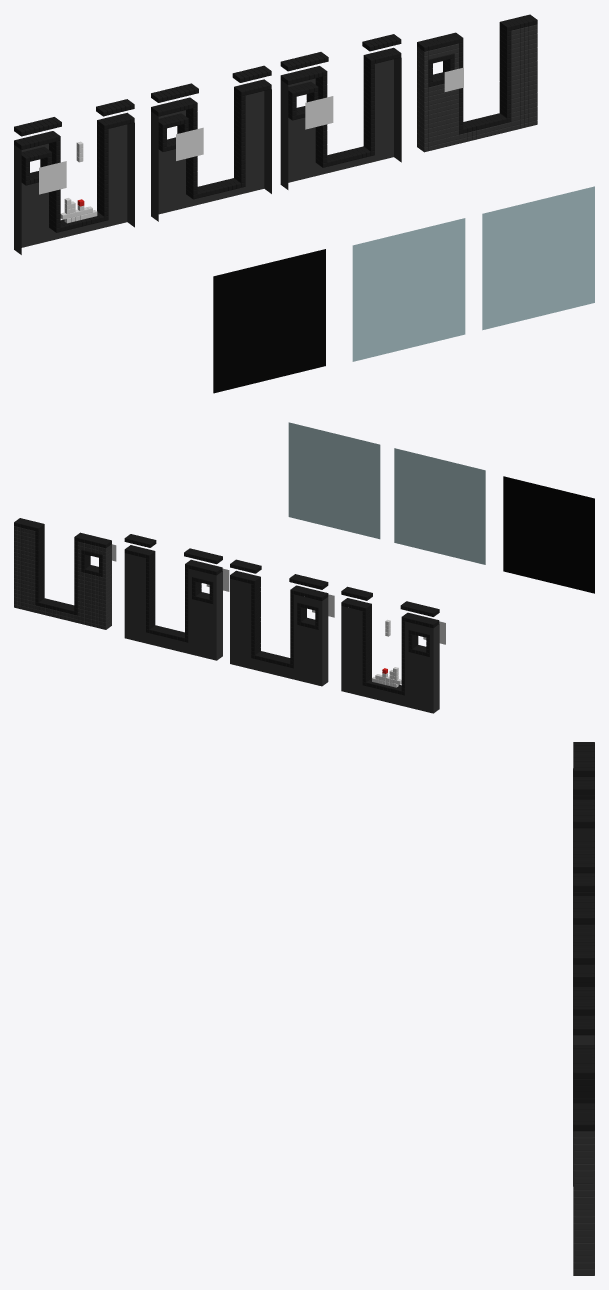
3 renders of one model, top to bottom at view 1: azimuth 30°, elevation 25°; view 2: azimuth 150°, elevation 25°; view 3: azimuth 270°, elevation 25°, orthographic. The views are drawn at different scales.
Visible parts, largest first — view 1: exemple_lvl_02, exemple_lvl_01, blue_light_backgoround, exemple_lvl_00, front_wall, border_walls, grey_light_background, border_timer, border_top_02; view 2: exemple_lvl_02, exemple_lvl_01, blue_light_backgoround, exemple_lvl_00, front_wall, border_walls, border_timer; view 3: exemple_lvl_00, exemple_lvl_01, exemple_lvl_02, border_top_02.
Boxes of the visible parts, <box> form: exemple_lvl_02: <box>14,99,325,393</box>; exemple_lvl_01: <box>280,34,594,330</box>; blue_light_backgoround: <box>352,218,465,361</box>; exemple_lvl_00: <box>417,14,537,152</box>; front_wall: <box>151,89,271,221</box>; border_walls: <box>151,79,271,199</box>; grey_light_background: <box>176,127,203,160</box>; border_timer: <box>158,113,188,151</box>; border_top_02: <box>151,83,198,102</box>; exemple_lvl_02: <box>341,476,594,713</box>; exemple_lvl_01: <box>124,422,380,660</box>; blue_light_backgoround: <box>394,448,485,564</box>; exemple_lvl_00: <box>14,518,116,629</box>; front_wall: <box>230,578,328,686</box>; border_walls: <box>230,570,328,668</box>; border_timer: <box>297,602,318,629</box>; exemple_lvl_00: <box>573,1045,594,1275</box>; exemple_lvl_01: <box>573,929,594,1186</box>; exemple_lvl_02: <box>573,742,594,864</box>; border_top_02: <box>573,838,594,873</box>.
Size of the model in its own units: 11837 by 2699 by 8004.
